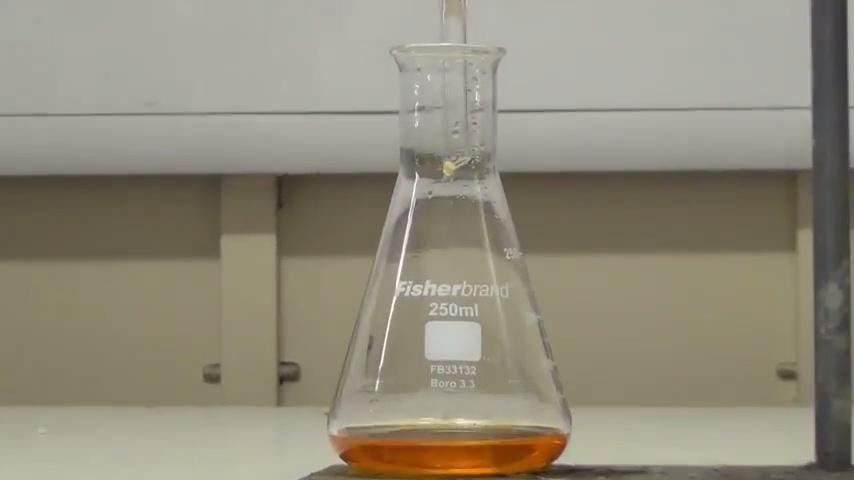Titrarion: (317, 25, 586, 470)
